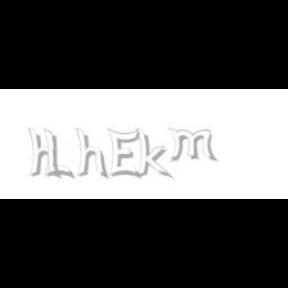E: (108, 128, 140, 180)
L: (44, 128, 72, 180)
h: (28, 128, 62, 180), (76, 128, 110, 180)
k: (135, 128, 173, 180)
m: (167, 128, 219, 162)
